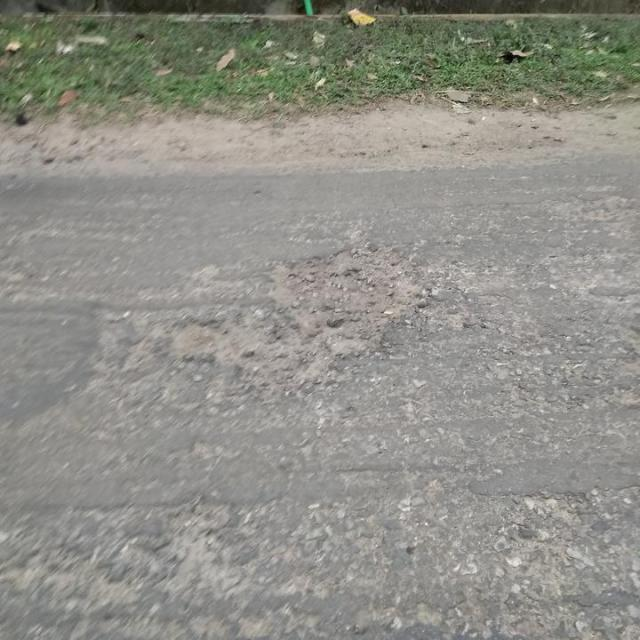Pothole: (169, 233, 434, 390)
